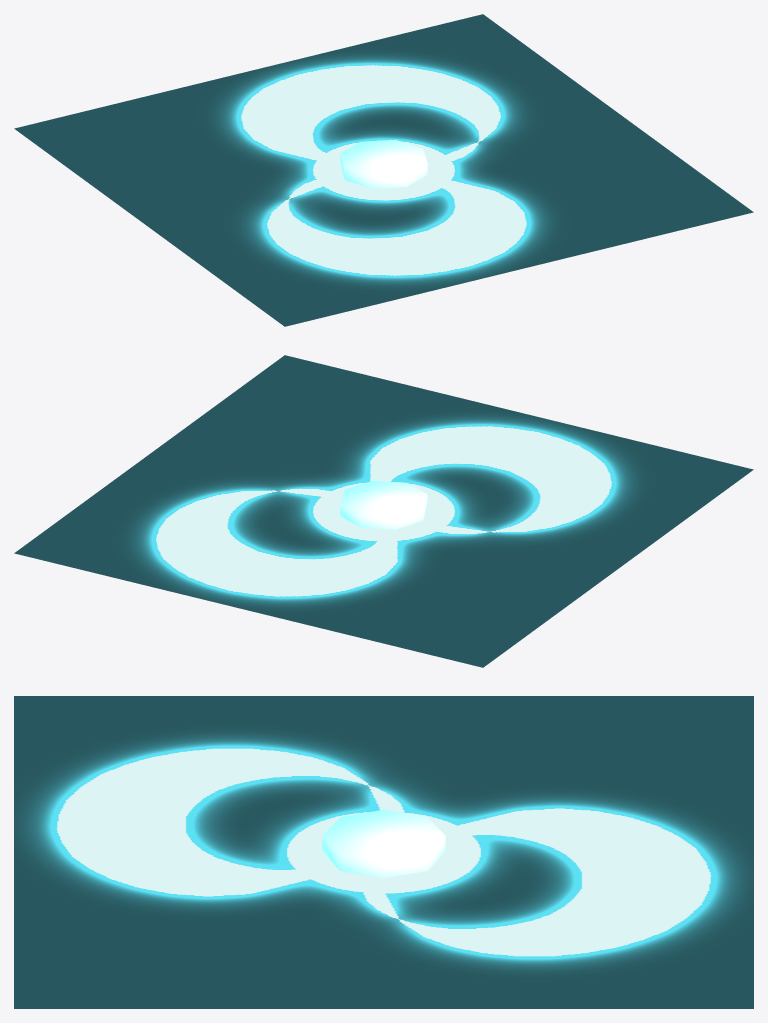
The model's file is fx_glaive_t2.glb.
3 renders of one model, top to bottom at view 1: azimuth 30°, elevation 25°; view 2: azimuth 150°, elevation 25°; view 3: azimuth 270°, elevation 25°, orthographic. The views are drawn at different scales.
Parts seen in each view (by area): view 1: fx_glaive, fx_glaive_metal; view 2: fx_glaive, fx_glaive_metal; view 3: fx_glaive, fx_glaive_metal.
Part boxes in pixels (bbox=[...]): fx_glaive: bbox=[14, 14, 753, 326]; fx_glaive_metal: bbox=[340, 139, 427, 188]; fx_glaive: bbox=[14, 355, 753, 667]; fx_glaive_metal: bbox=[340, 480, 427, 529]; fx_glaive: bbox=[14, 696, 753, 1008]; fx_glaive_metal: bbox=[322, 809, 445, 878].
Size of the model in its own units: 1.2 by 0.06 by 1.2.
3 materials, 2 textured.
